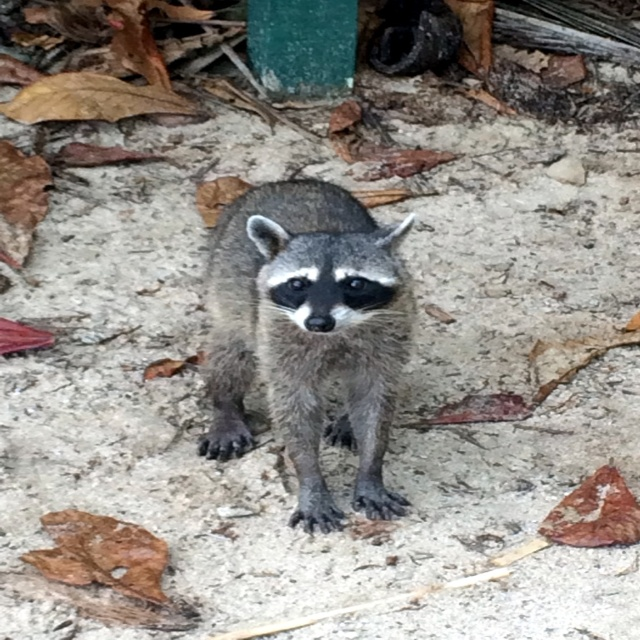Raccoon: (198, 181, 410, 535)
